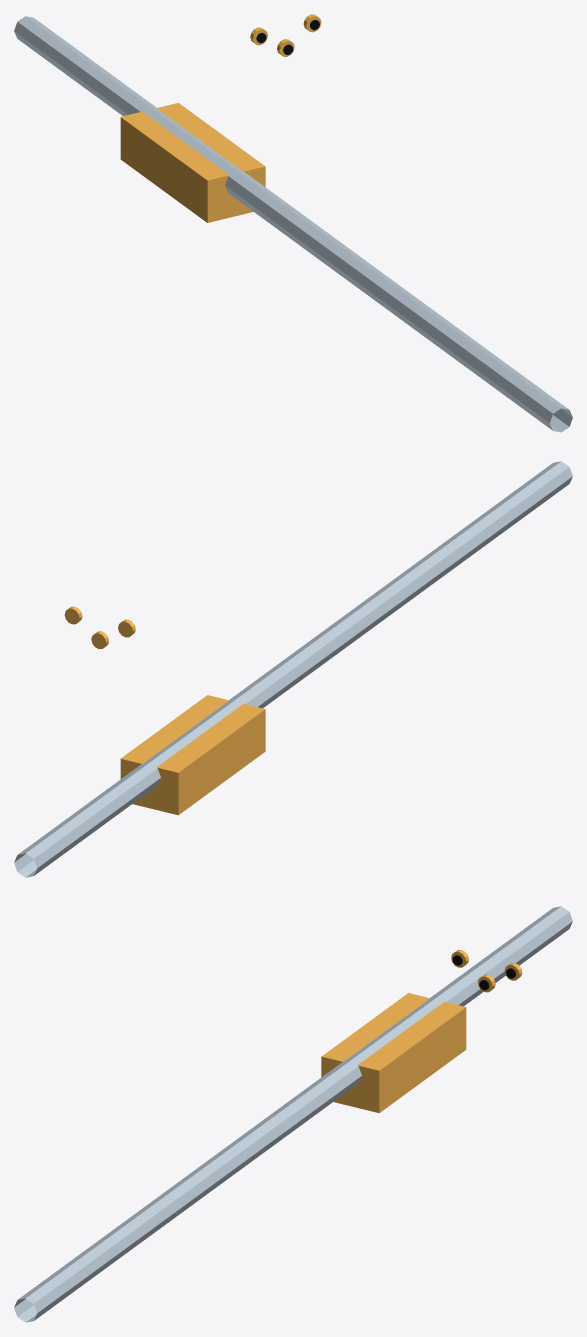
The model's file is 10_L91_ExteriorInspectionRail.fbx.
3 renders of one model, top to bottom at view 1: azimuth 30°, elevation 25°; view 2: azimuth 150°, elevation 25°; view 3: azimuth 330°, elevation 25°, orthographic.
Parts seen in each view (by area): view 1: L91_ExteriorInspectionRail; view 2: L91_ExteriorInspectionRail; view 3: L91_ExteriorInspectionRail.
Part boxes in pixels (bbox=[...]): L91_ExteriorInspectionRail: bbox=[14, 16, 572, 432]; L91_ExteriorInspectionRail: bbox=[14, 461, 572, 877]; L91_ExteriorInspectionRail: bbox=[14, 906, 572, 1322].
Size of the model in its own units: 134 by 115 by 800.
